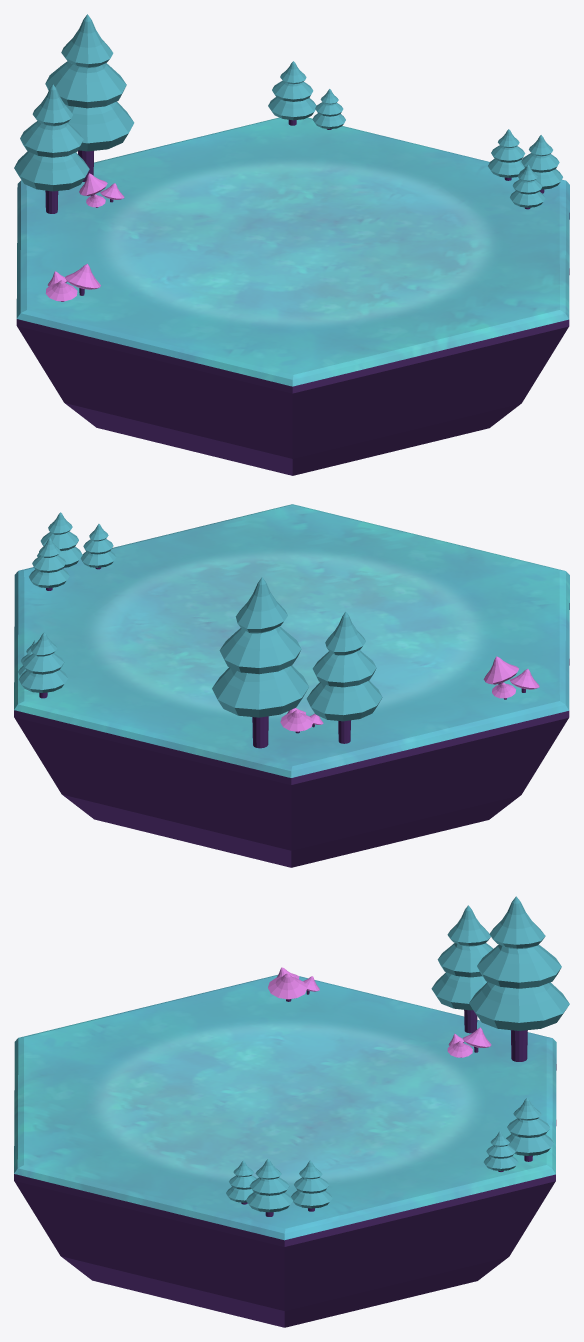
Rendered from Asset_Biome_Forest_03.fbx.
The picture shows the model from 3 angles, top to bottom: view 1: azimuth 30°, elevation 25°; view 2: azimuth 150°, elevation 25°; view 3: azimuth 270°, elevation 25°; orthographic projection. The views are drawn at different scales.
Visible parts, largest first — view 1: Asset_Tile_Forest, PolySurface_TreeForest_011, PolySurface_TreeForest_04, PolySurface_TreeForest_013, PolySurface_TreeForest_09, PolySurface_TreeForest_07, PolySurface_MushroomForest_02, PolySurface_TreeForest_08, PolySurface_TreeForest_012, PolySurface_MushroomForest_01; view 2: Asset_Tile_Forest, PolySurface_TreeForest_011, PolySurface_TreeForest_04, PolySurface_TreeForest_013, PolySurface_TreeForest_07, PolySurface_MushroomForest_02, PolySurface_TreeForest_09, PolySurface_TreeForest_08, PolySurface_MushroomForest_01; view 3: Asset_Tile_Forest, PolySurface_TreeForest_011, PolySurface_TreeForest_04, PolySurface_TreeForest_013, PolySurface_TreeForest_09, PolySurface_TreeForest_07, PolySurface_MushroomForest_02, PolySurface_TreeForest_012, PolySurface_TreeForest_08, PolySurface_MushroomForest_01.
Part boxes in pixels (x1=…): Asset_Tile_Forest: x1=16, y1=117, x2=569, y2=475; PolySurface_TreeForest_011: x1=45, y1=14, x2=134, y2=181; PolySurface_TreeForest_04: x1=14, y1=84, x2=89, y2=213; PolySurface_TreeForest_013: x1=268, y1=61, x2=316, y2=125; PolySurface_TreeForest_09: x1=517, y1=135, x2=562, y2=193; PolySurface_TreeForest_07: x1=488, y1=129, x2=525, y2=180; PolySurface_MushroomForest_02: x1=45, y1=263, x2=100, y2=301; PolySurface_TreeForest_08: x1=510, y1=165, x2=545, y2=209; PolySurface_TreeForest_012: x1=312, y1=89, x2=345, y2=129; PolySurface_MushroomForest_01: x1=79, y1=173, x2=124, y2=207; Asset_Tile_Forest: x1=14, y1=504, x2=569, y2=867; PolySurface_TreeForest_011: x1=212, y1=577, x2=308, y2=748; PolySurface_TreeForest_04: x1=306, y1=611, x2=382, y2=743; PolySurface_TreeForest_013: x1=18, y1=632, x2=67, y2=698; PolySurface_TreeForest_07: x1=29, y1=538, x2=69, y2=590; PolySurface_MushroomForest_02: x1=483, y1=656, x2=539, y2=699; PolySurface_TreeForest_09: x1=37, y1=512, x2=82, y2=568; PolySurface_TreeForest_08: x1=80, y1=524, x2=116, y2=569; PolySurface_MushroomForest_01: x1=280, y1=708, x2=323, y2=733; Asset_Tile_Forest: x1=14, y1=975, x2=556, y2=1327; PolySurface_TreeForest_011: x1=469, y1=896, x2=569, y2=1061; PolySurface_TreeForest_04: x1=431, y1=905, x2=493, y2=1033; PolySurface_TreeForest_013: x1=506, y1=1098, x2=554, y2=1161; PolySurface_TreeForest_09: x1=246, y1=1159, x2=293, y2=1216; PolySurface_TreeForest_07: x1=291, y1=1160, x2=332, y2=1211; PolySurface_MushroomForest_02: x1=268, y1=967, x2=319, y2=1001; PolySurface_TreeForest_012: x1=483, y1=1131, x2=518, y2=1171; PolySurface_TreeForest_08: x1=226, y1=1160, x2=257, y2=1204; PolySurface_MushroomForest_01: x1=447, y1=1027, x2=491, y2=1057.
Size of the model in its own units: 436 by 236 by 388.
